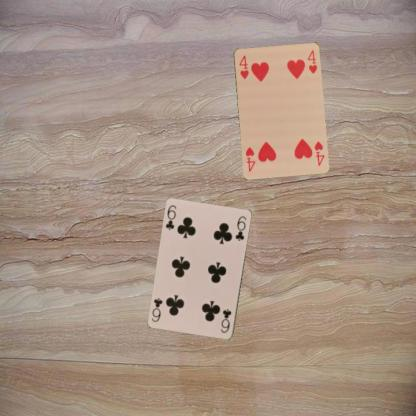4h: (236, 53, 250, 80), (312, 139, 326, 166)
6c: (163, 203, 177, 232), (218, 307, 233, 334)
